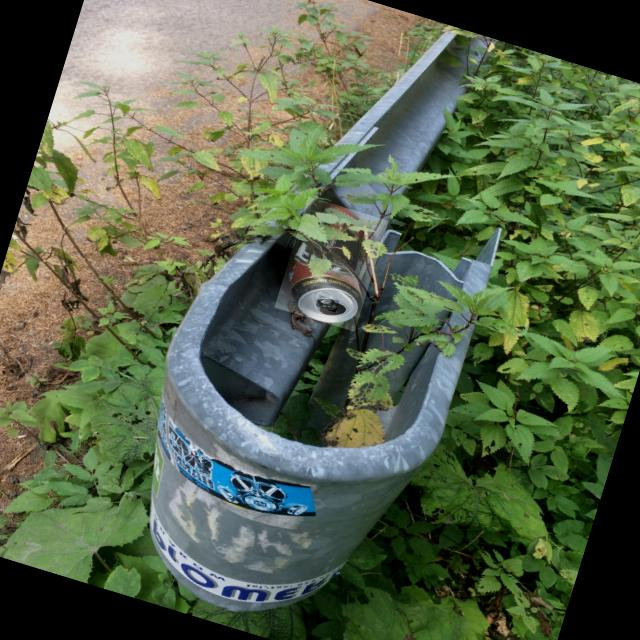Drink can: (288, 202, 363, 322)
Pop tab: (316, 298, 336, 309)
